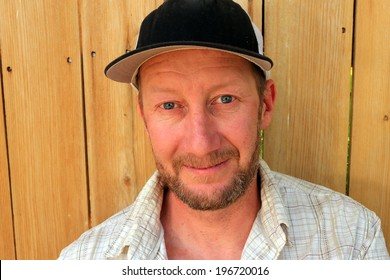NoMask: (147, 76, 252, 214)
